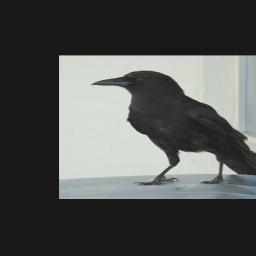Crow: (88, 70, 256, 187)
